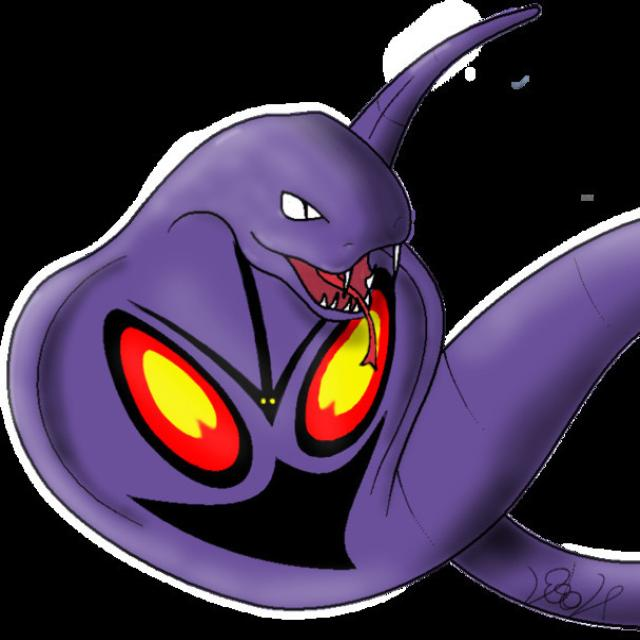Arbok: (59, 90, 450, 616)
